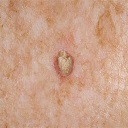Actinic: (52, 50, 78, 78)
